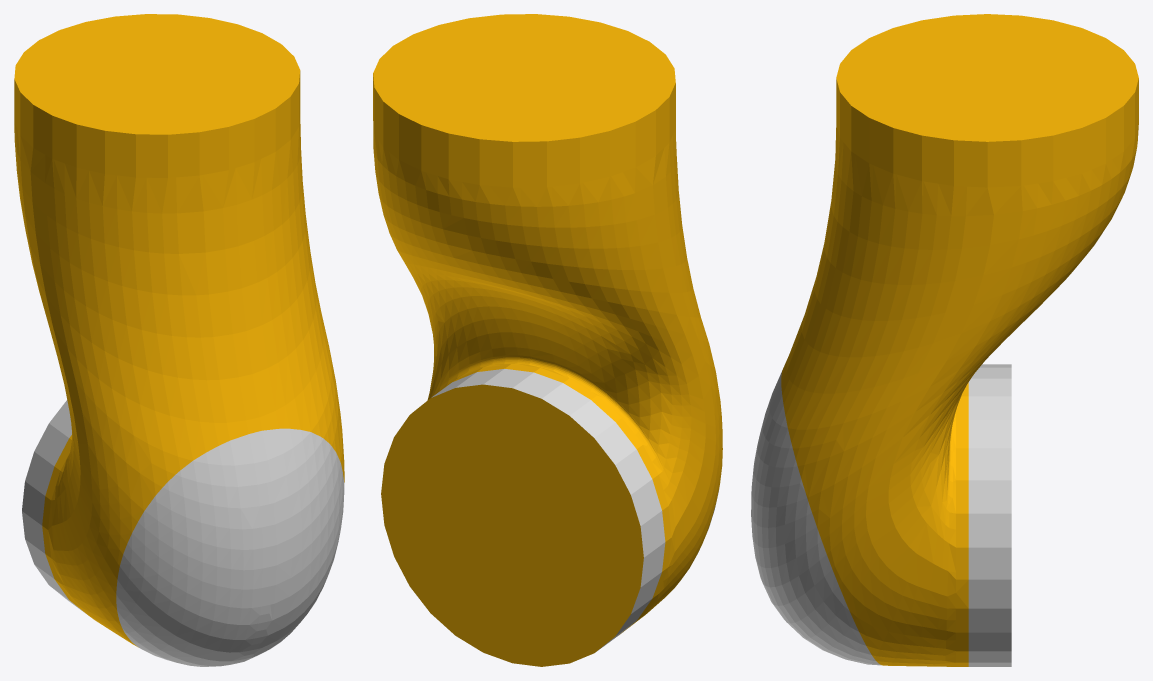
The picture shows the model from 3 angles, left to right: view 1: azimuth 30°, elevation 25°; view 2: azimuth 150°, elevation 25°; view 3: azimuth 270°, elevation 25°; orthographic projection. The views are drawn at different scales.
Parts seen in each view (by area): view 1: link_4; view 2: link_4; view 3: link_4.
Boxes of the visible parts, x1,y1,x2,y2 form: link_4: (14,14,344,666); link_4: (373,14,722,666); link_4: (751,14,1138,666).
Size of the model in its own units: 0.12 by 0.1538 by 0.2515.
